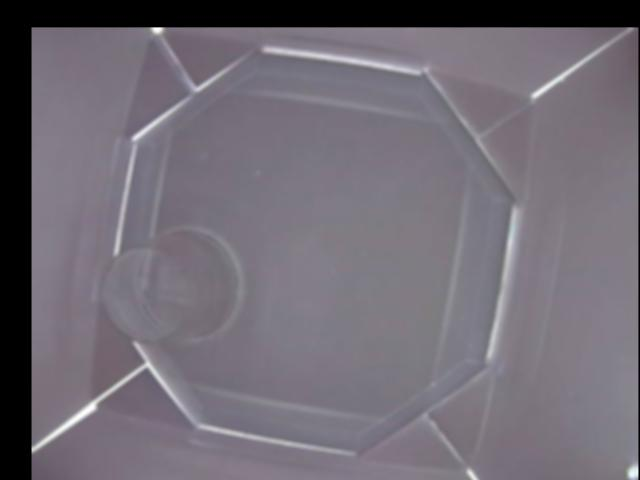Cup: (107, 227, 245, 343)
